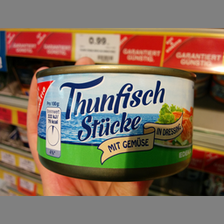fish: (35, 65, 198, 182)
